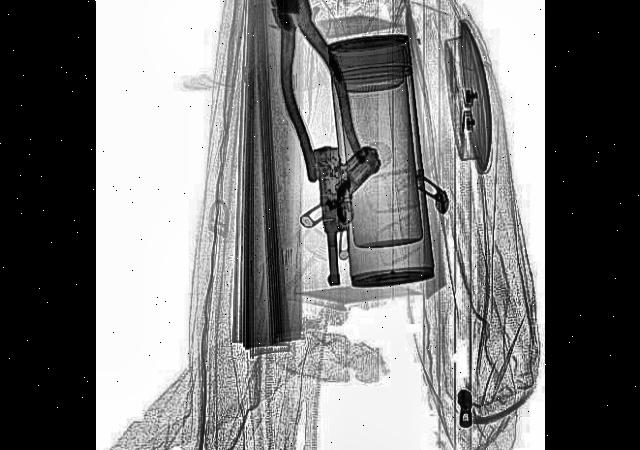Gun: (308, 132, 390, 290)
Pliers: (241, 0, 362, 186)
